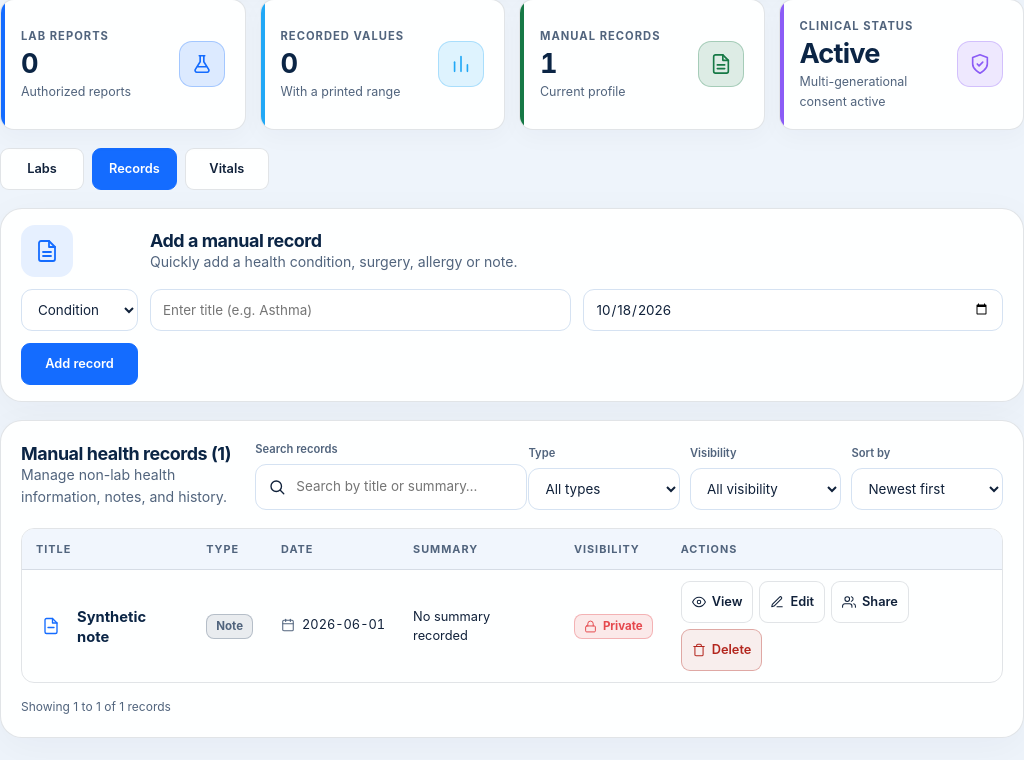
Test case: RecordsPage › does not reload or clear the new profile when an earlier record save completes
This screenshot has width=1024, height=760.
(page scrolled)
Expected: the text "Synthetic note" is shown, [77,608,146,646]
Click the button "Edit". click: click(792, 602)
box: [759,581,825,623]
(page scrolled)
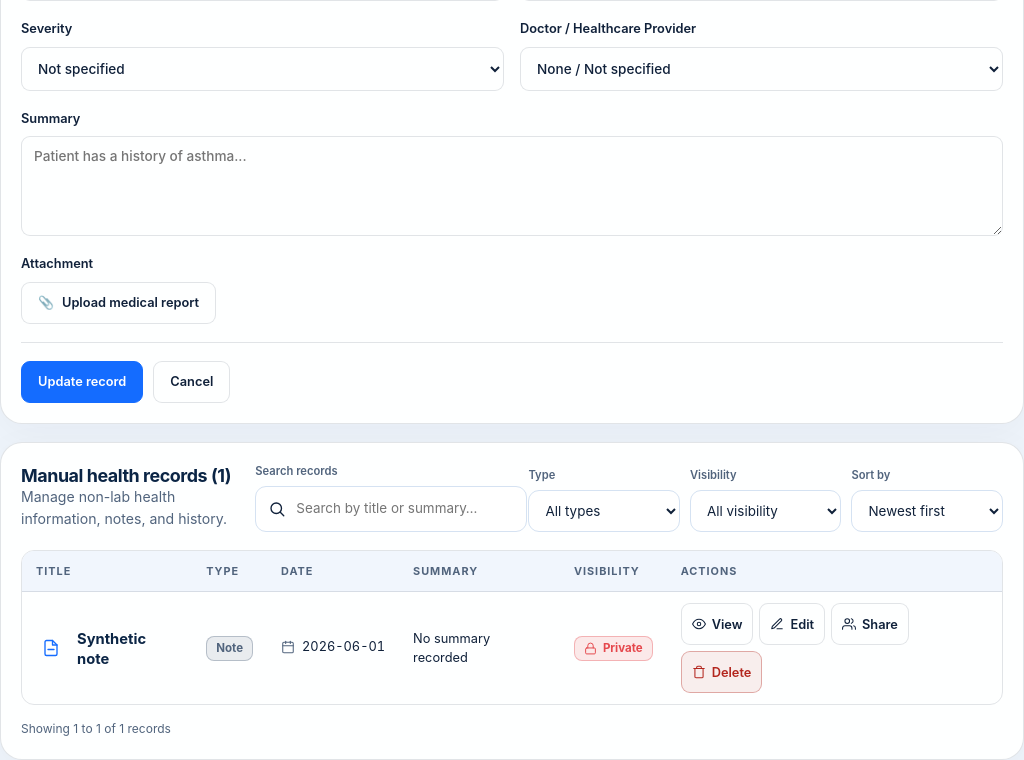
Click the button "Update record". click: click(82, 382)
box: [21,361,143,403]
(page scrolled)
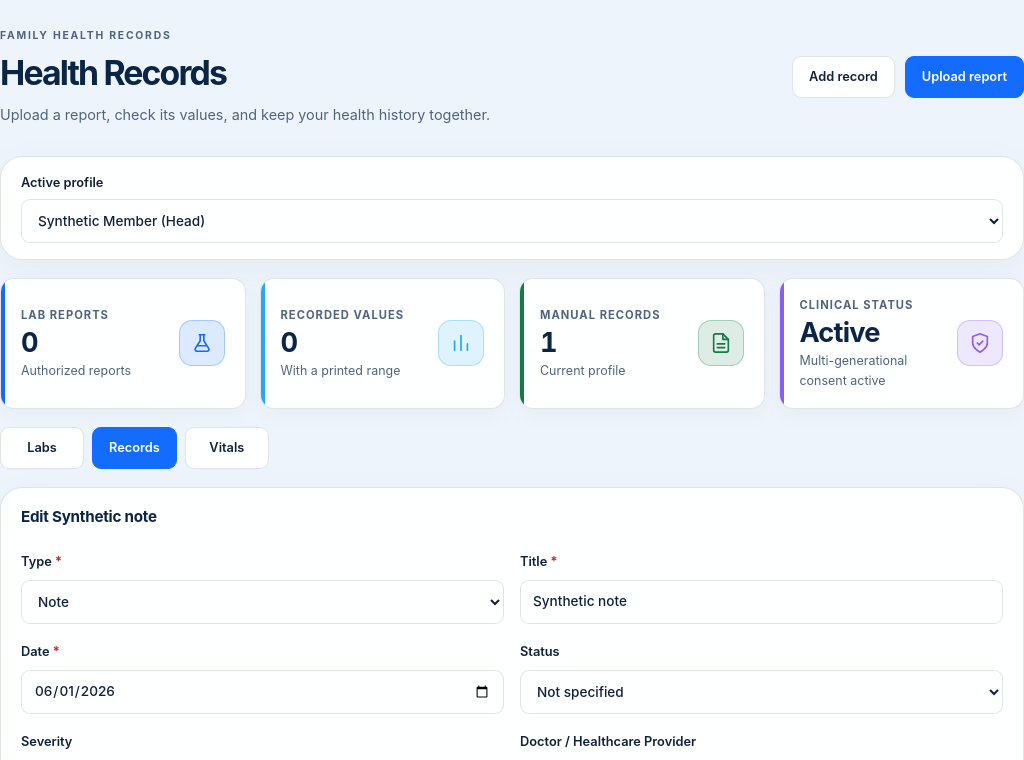
Select "Synthetic Minor (Minor)" in the dropdown labelled "Active profile". click: (512, 221)
box: [21,199,1003,243]
(page scrolled)
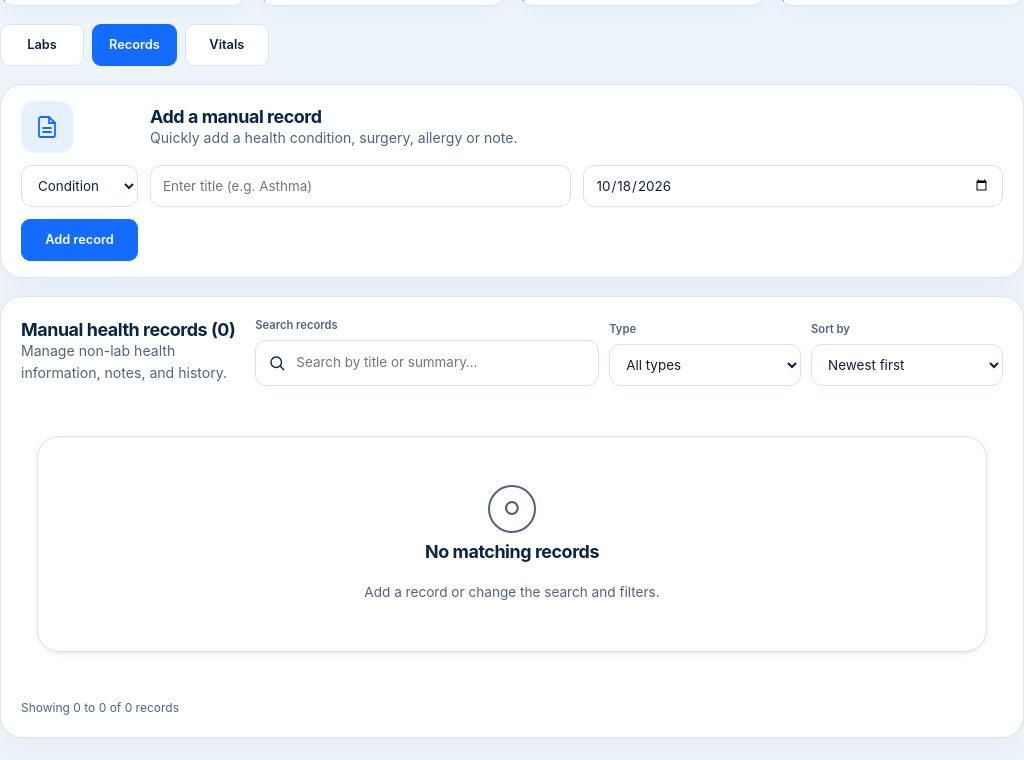
Result: the heading "No matching records" is shown at [425,540,599,562]
